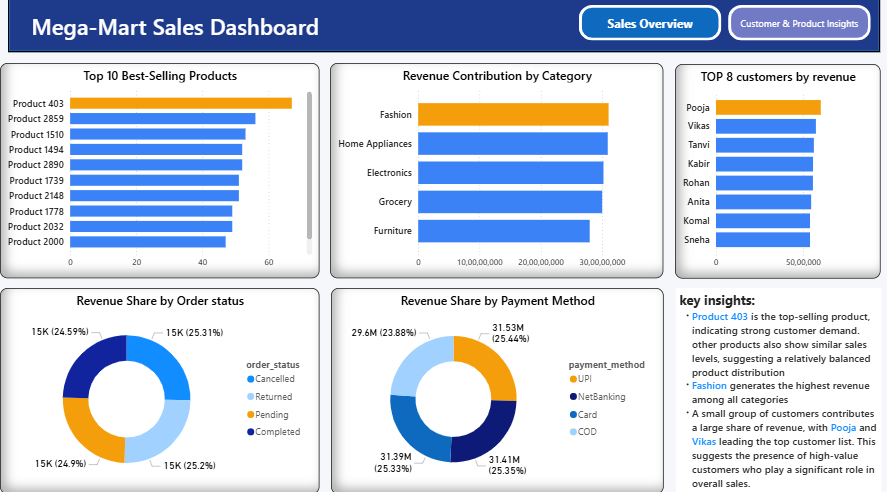

The dashboard page shown, as its layout file describes it:
{"tool":"powerbi","page":{"name":"Customer & Product Insights","canvas":[1280,720],"ordinal":1},"visuals":[{"type":"shape","box":[11.8,0,1256.5,84],"z":0,"group":"g1"},{"type":"barChart","title":"Top 10 Best-Selling Products","fields":{"Category":["megamart_db products.product_name"],"Y":["_measures.Total Units Sold"]},"box":[0,99.5,459.5,310.2],"z":0},{"type":"barChart","title":"Revenue Contribution by Category","fields":{"Category":["megamart_db vw_product_performance.category"],"Y":["Sum(megamart_db vw_product_performance.total_revenue)"]},"box":[475.6,99.5,480,310.2],"z":1},{"type":"donutChart","title":"Revenue Share by Payment Method","fields":{"Category":["megamart_db orders.payment_method"],"Y":["_measures.Total Revenue"]},"box":[477.1,422.9,478.5,297.1],"z":2},{"type":"donutChart","title":"Revenue Share by Order status","fields":{"Category":["megamart_db orders.order_status"],"Y":["_measures.Total Units Sold"]},"box":[0,422.9,459.5,297.1],"z":3},{"type":"group","id":"g1","title":"Group 1","box":[0,0,1268.2,84],"z":4},{"type":"barChart","title":"TOP 8 customers by revenue","fields":{"Category":["megamart_db customers.first_name"],"Y":["_measures.Total Revenue"]},"box":[972.6,100.8,295.6,309.1],"z":5},{"type":"textbox","box":[973,423,296,297],"z":6},{"type":"textbox","box":[0,18.5,551,65.5],"z":1000,"group":"g1"},{"type":"pageNavigator","box":[833.8,15.8,421.9,51.8],"z":12001,"group":"g1"}]}

Visuals, with their boxes in screenshot pixels (x1, y1, x2, y2), scaled from the page's 1280x720 canvas onto the 887x492 screenshot:
shape: l=8, t=0, r=879, b=57
"Top 10 Best-Selling Products" barChart: l=0, t=68, r=318, b=280
"Revenue Contribution by Category" barChart: l=330, t=68, r=662, b=280
"Revenue Share by Payment Method" donutChart: l=331, t=289, r=662, b=491
"Revenue Share by Order status" donutChart: l=0, t=289, r=318, b=491
"Group 1" group: l=0, t=0, r=879, b=57
"TOP 8 customers by revenue" barChart: l=674, t=69, r=879, b=280
textbox: l=674, t=289, r=879, b=491
textbox: l=0, t=13, r=382, b=57
pageNavigator: l=578, t=11, r=870, b=46
